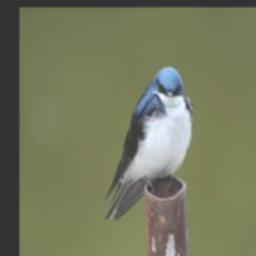Swallow: (102, 64, 195, 222)
